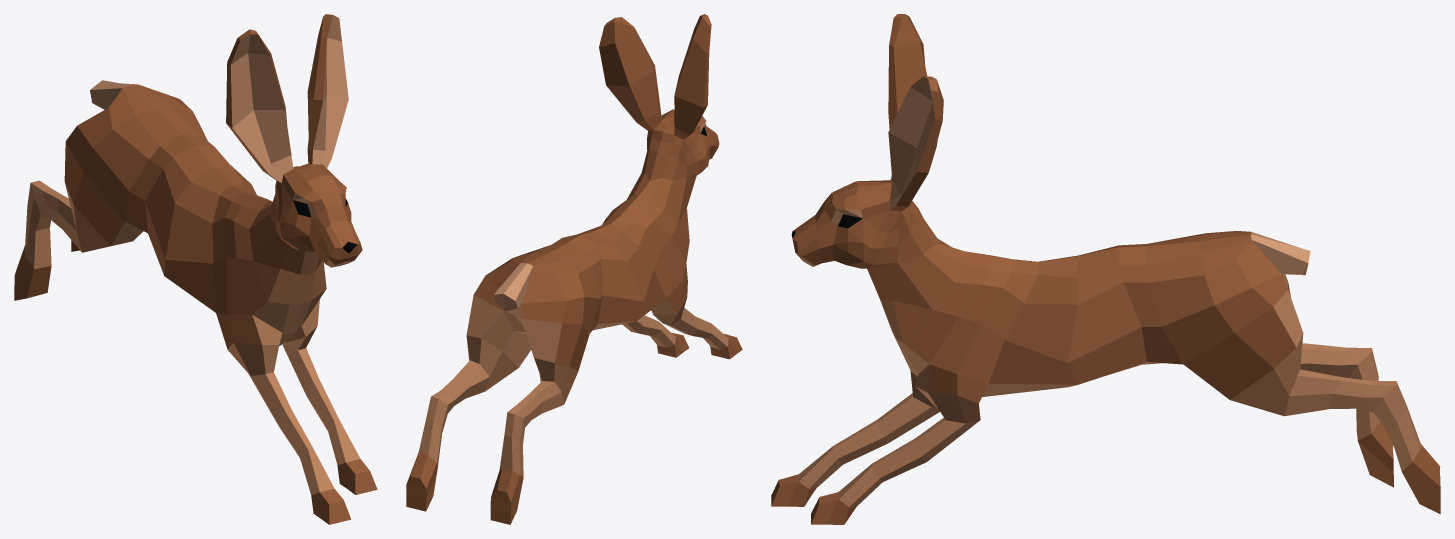
The model's file is hare.glb.
The picture shows the model from 3 angles, left to right: view 1: azimuth 30°, elevation 25°; view 2: azimuth 150°, elevation 25°; view 3: azimuth 270°, elevation 25°; orthographic projection. The views are drawn at different scales.
Visible parts, largest first — view 1: hare; view 2: hare; view 3: hare.
Part boxes in pixels (<box>): hare: <box>14,14,377,524</box>; hare: <box>406,14,742,524</box>; hare: <box>771,14,1440,524</box>.
Bounding box in the file's own units: 0.207 × 0.7404 × 0.9483.
Materials: 1 (1 with a texture image).
